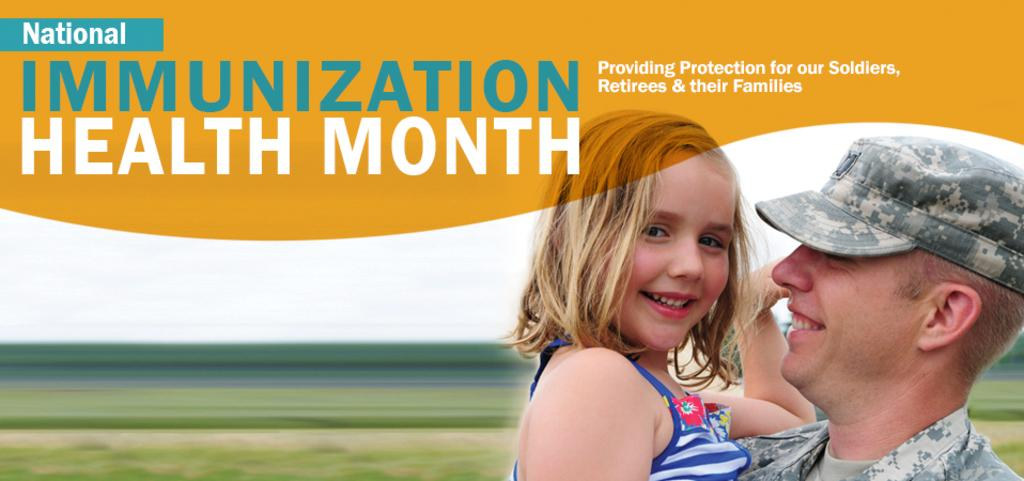Hat: (754, 134, 1022, 296)
